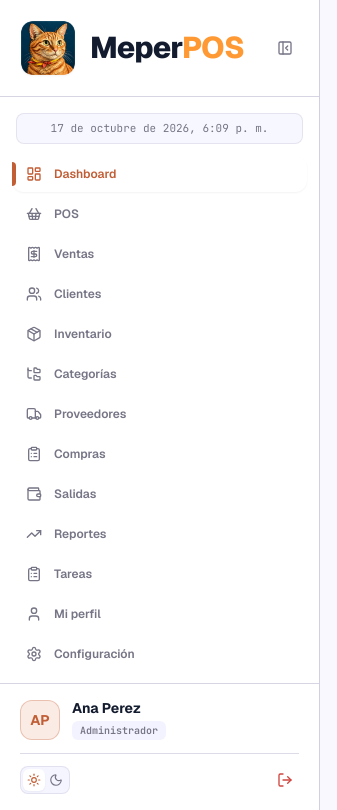
Scenario: Sidebar › shows floating tooltip on link hover when sidebar is collapsed
The width and height of the screenshot is (337, 810).
Step 1. Click the button with test id "sidebar-collapse-toggle" → (285, 48), box left=271, top=34, right=299, bottom=62
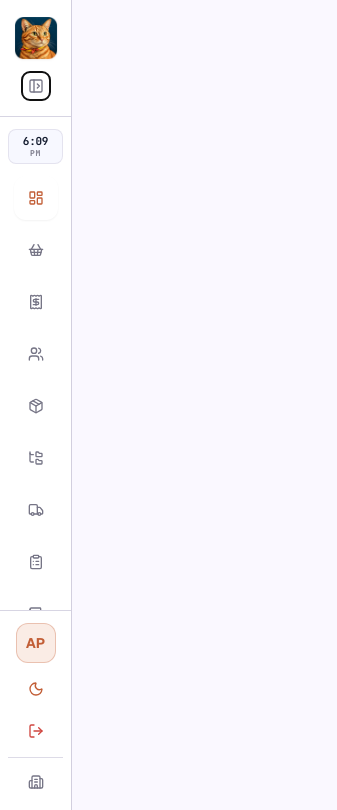
Step 2. Hover over the link named "Dashboard" → (36, 198), box left=14, top=176, right=58, bottom=220
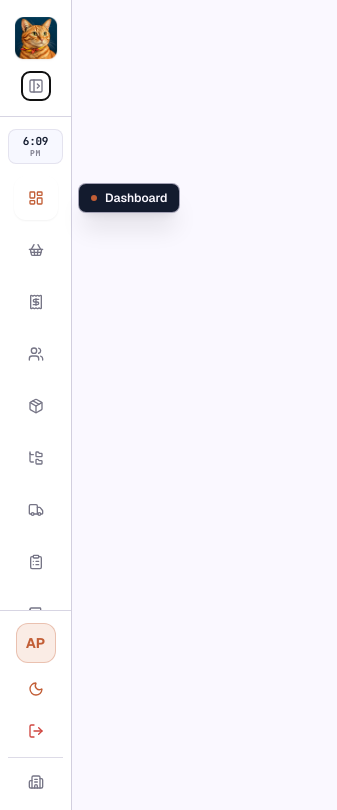
Result: the element with test id "sidebar-rail-tooltip" is shown at left=78, top=183, right=180, bottom=213
Result: the element with test id "sidebar-rail-tooltip" reads "Dashboard" at left=105, top=190, right=168, bottom=206
